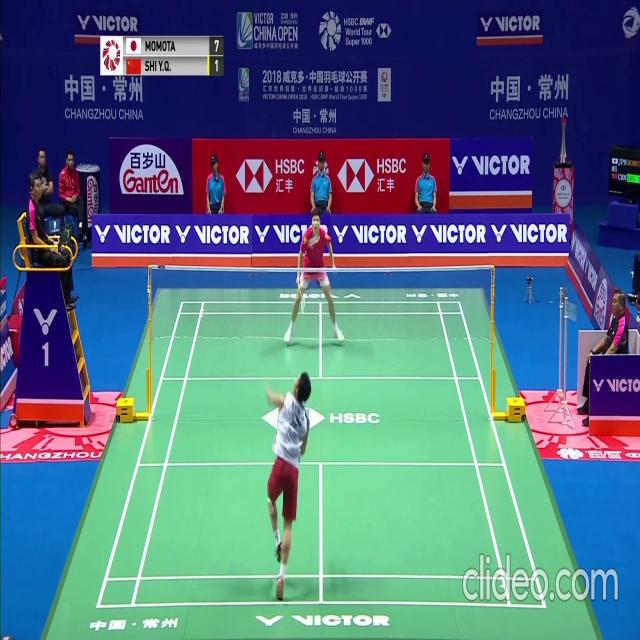Shuttlecock: (314, 233, 318, 241)
